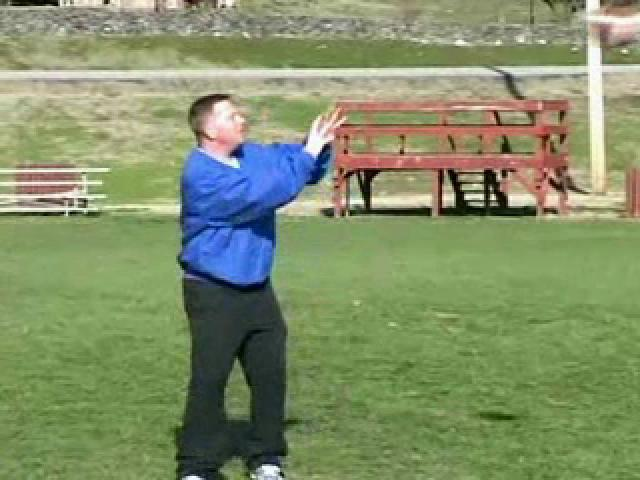I: (158, 66, 364, 480)
